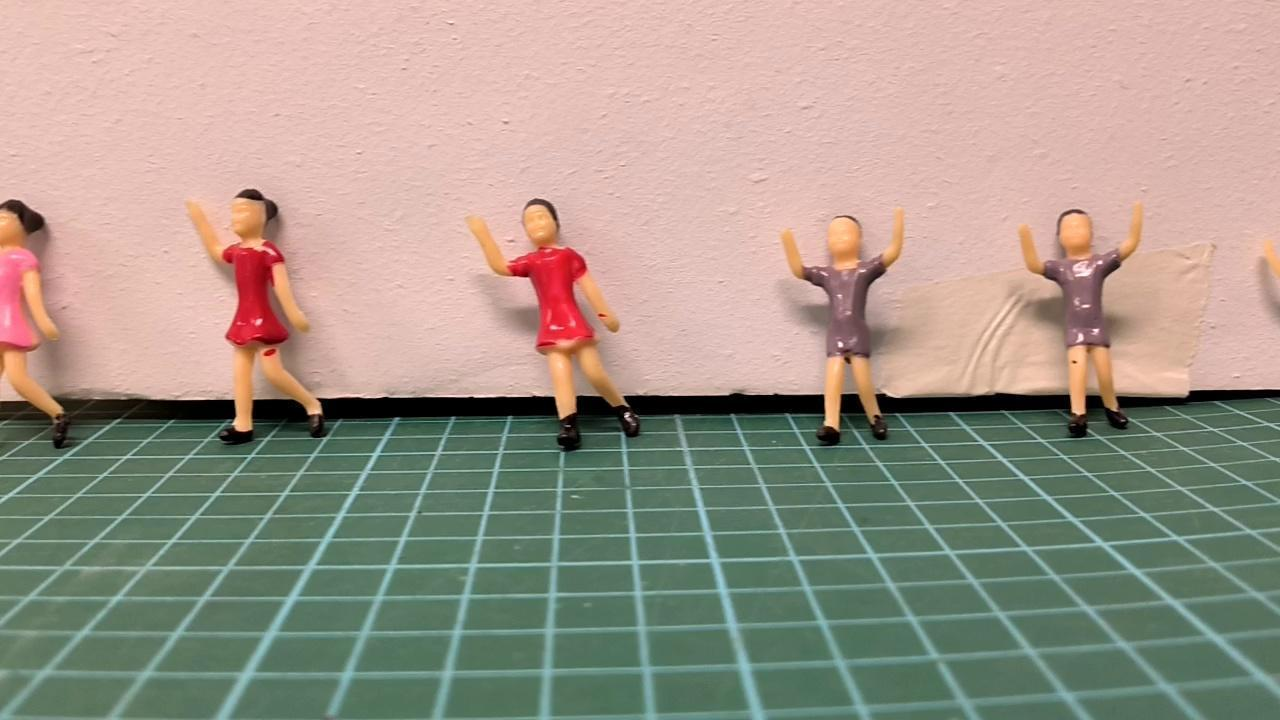human: (458, 190, 650, 463), (172, 178, 340, 449), (764, 195, 921, 450), (1008, 198, 1162, 450)
